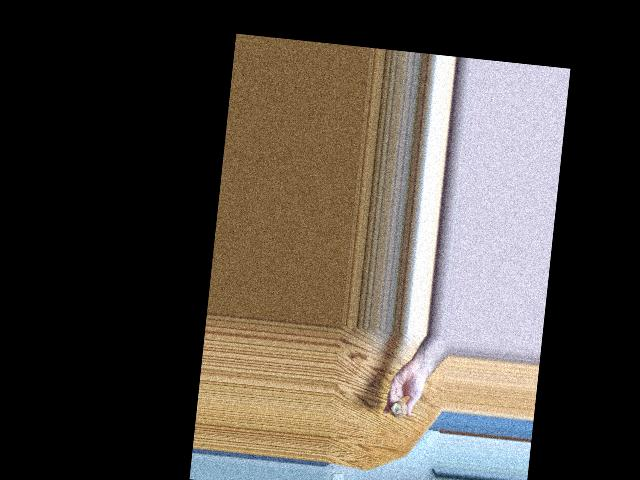sweet_potato: (390, 402, 410, 419)
